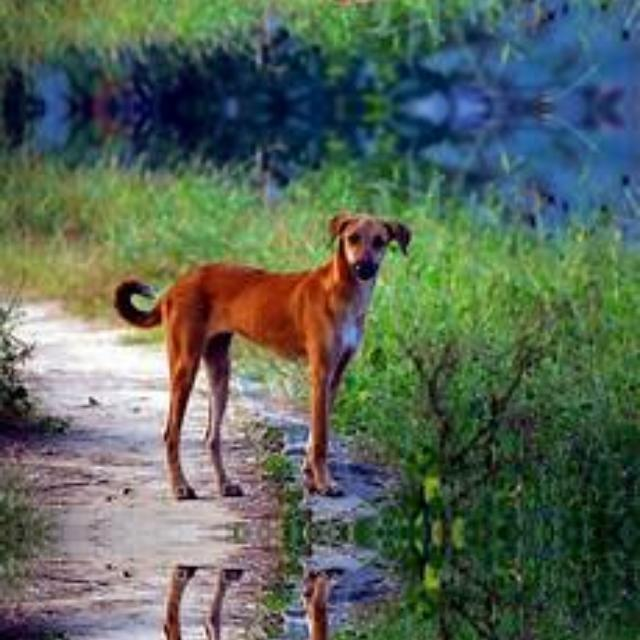dog: (97, 194, 430, 510), (96, 555, 429, 640), (96, 0, 429, 20)
